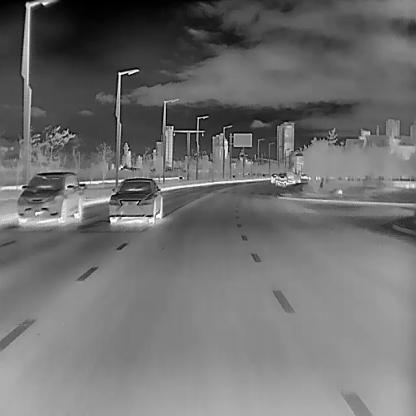car: (16, 171, 80, 225), (108, 176, 162, 224), (277, 172, 287, 186), (284, 170, 295, 182), (270, 171, 280, 182), (292, 174, 300, 183)
